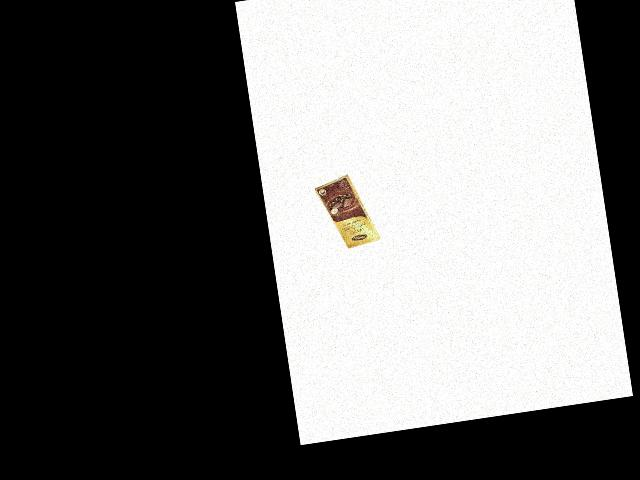chocolate: (312, 164, 383, 252)
